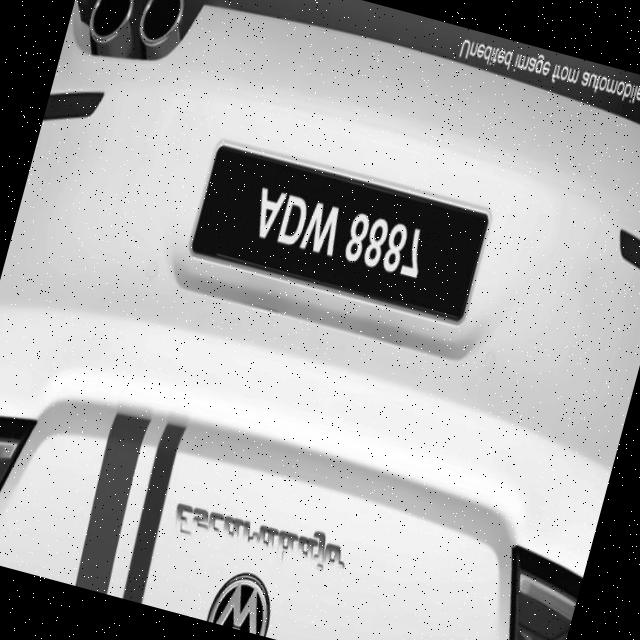License_Plate: (187, 139, 493, 330)
